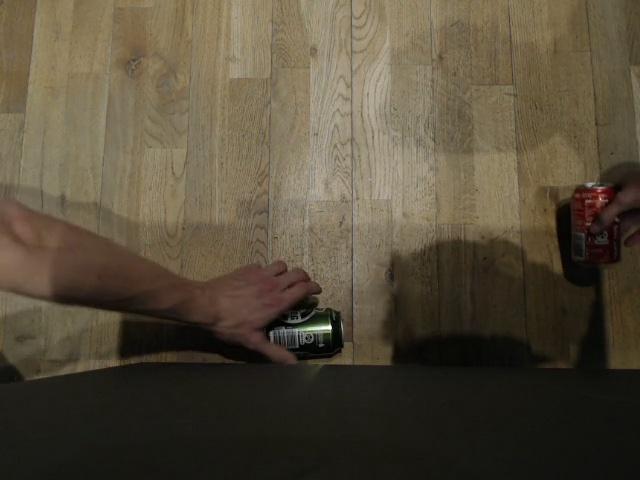beer: (257, 307, 342, 361)
cola: (571, 180, 623, 263)
